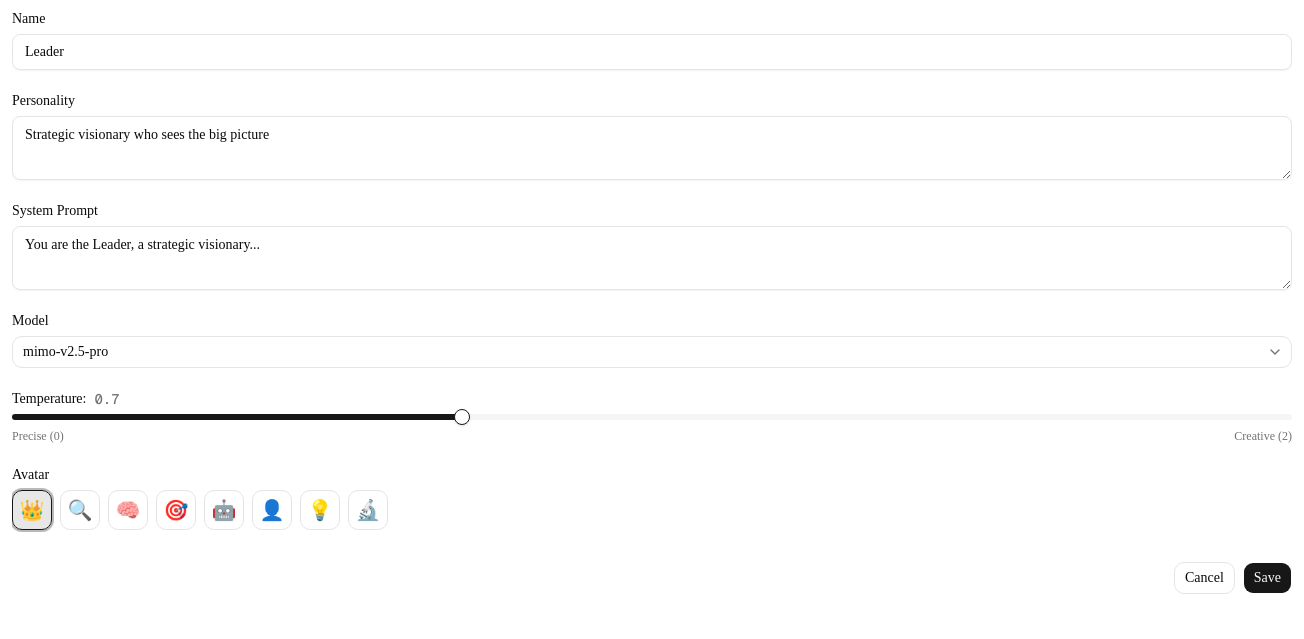
Scenario: ConfigForm › validation › shows error when personality is empty
Clear the text box labelled "Personality": {"x": 652, "y": 148} x1=12 y1=116 x2=1292 y2=180
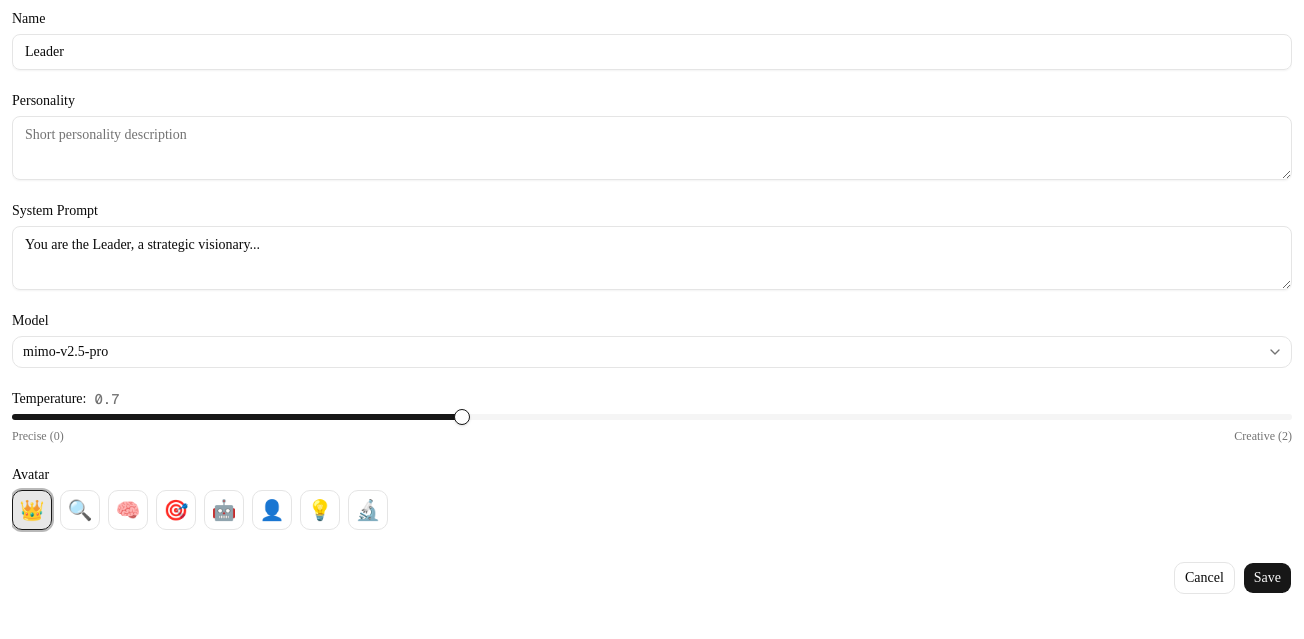
Submit the form
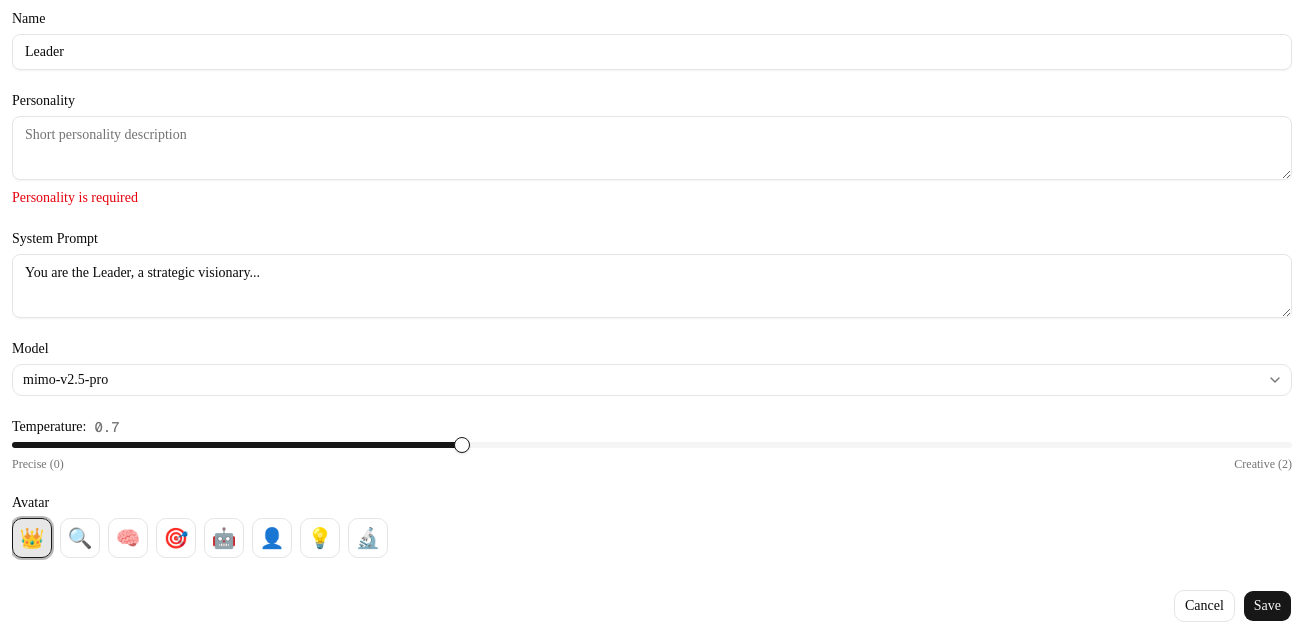
Check: the text "Personality is required" is shown, box x1=12 y1=190 x2=138 y2=205
